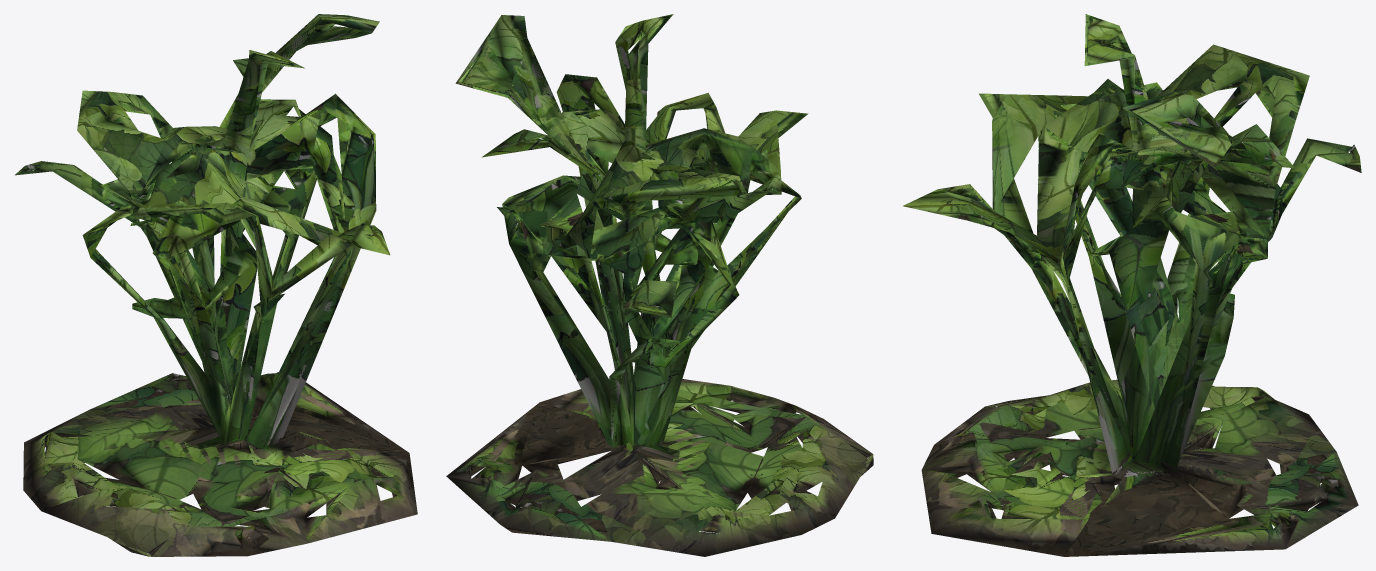
Rendered from Crop_Potato_Growing.fbx.
3 views of the same model, side by side, from view 1: azimuth 30°, elevation 25°; view 2: azimuth 150°, elevation 25°; view 3: azimuth 270°, elevation 25° (orthographic). The views are drawn at different scales.
Visible parts, largest first — view 1: texture_mapping; view 2: texture_mapping; view 3: texture_mapping.
Part boxes in pixels (x1,y1,x2,y2): texture_mapping: (15,14,417,556); texture_mapping: (446,14,873,556); texture_mapping: (903,14,1361,556).
Size of the model in its own units: 0.7034 by 0.7396 by 0.8428.
1 material, 1 textured.
